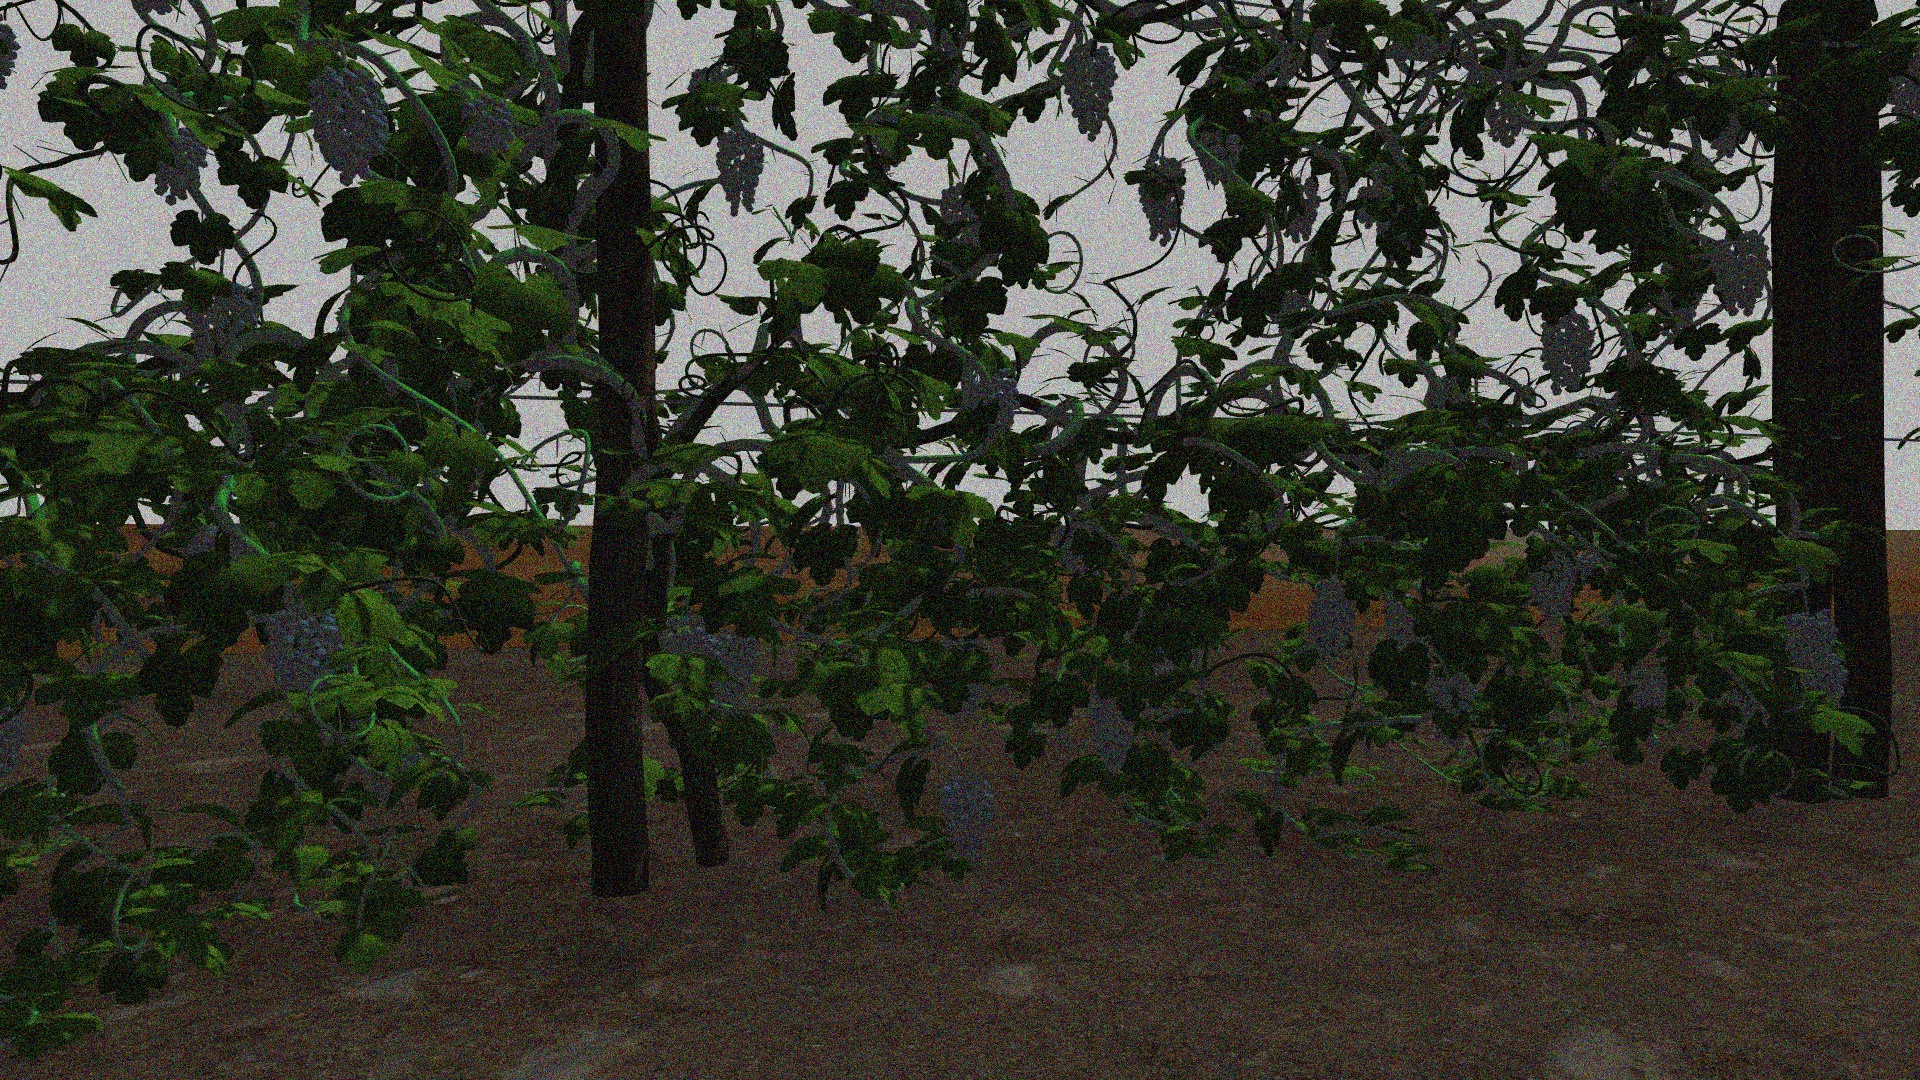grape: (309, 61, 390, 187), (262, 605, 343, 702), (181, 277, 255, 360), (1709, 228, 1774, 316), (1062, 44, 1120, 141), (935, 774, 997, 861), (1081, 684, 1137, 777), (1133, 157, 1188, 248), (1304, 578, 1360, 662), (1540, 309, 1593, 396), (713, 127, 764, 218), (152, 125, 207, 204), (1782, 607, 1838, 683), (704, 636, 760, 712), (967, 367, 1022, 438), (1528, 554, 1578, 626), (462, 95, 513, 160), (1193, 127, 1244, 187), (1803, 659, 1851, 711), (657, 615, 709, 662), (1425, 673, 1477, 717), (1623, 669, 1669, 712)
